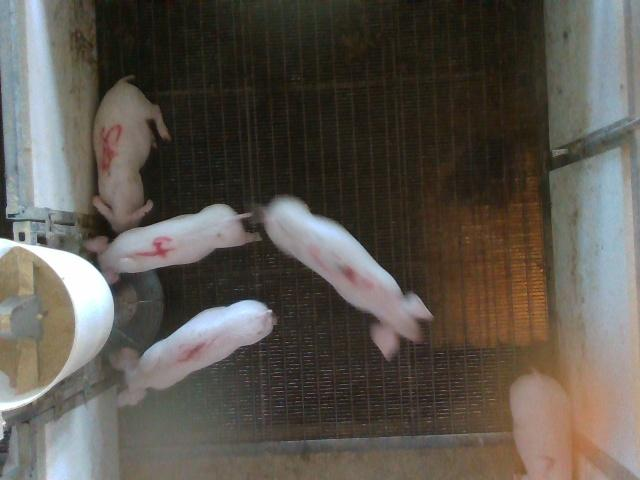pig-1: (110, 300, 276, 406)
pig-3: (262, 196, 432, 359)
pig-4: (86, 204, 260, 284)
pig-5: (92, 76, 170, 233)
